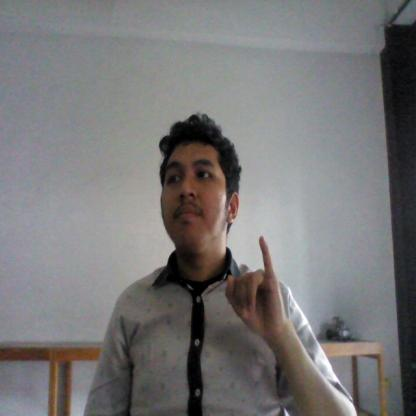I: (220, 227, 283, 345)
